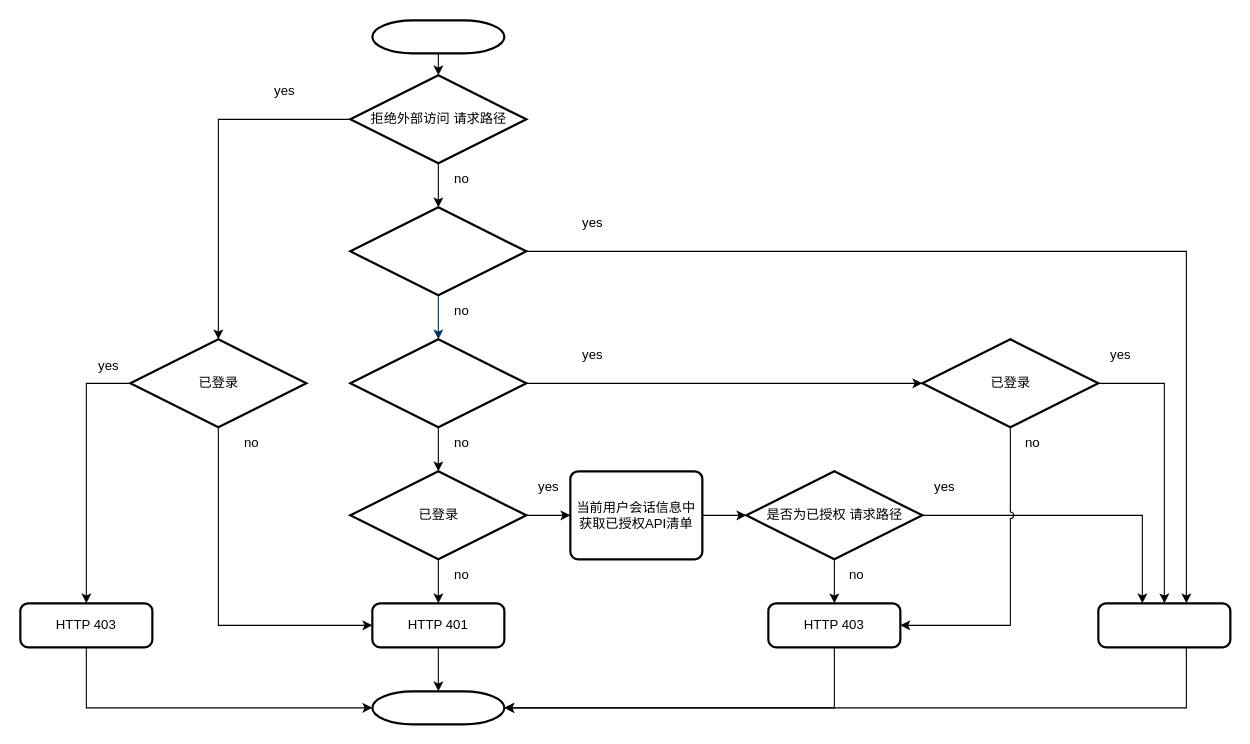
The diagram is 1250 pixels wide and 744 high, and some of its shapes have lost their labels. Each missing label, with the centre of its shape:
"end" goes at point 438,707.
"start" goes at point 438,36.
"允许所有人访问 请求路径" goes at point 438,251.
"已登录可访问 请求路径" goes at point 438,383.
"网关反代到应用" goes at point 1164,625.
